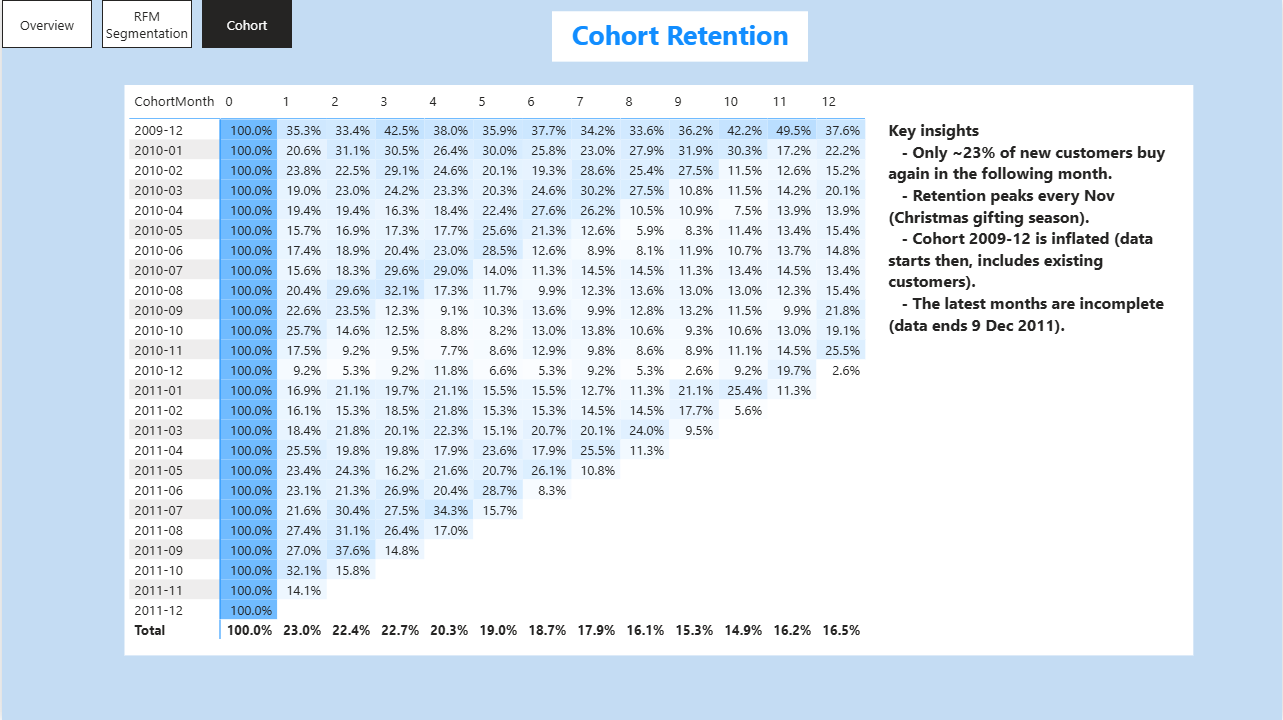

What the dashboard file says about the page in this screenshot:
{"tool":"powerbi","page":{"name":"Cohort","canvas":[1280,720],"ordinal":2},"visuals":[{"type":"pivotTable","fields":{"Rows":["Dim_Customer.CohortMonth"],"Columns":["Fact_Sales.CohortIndex"],"Values":["_Measures.Retention %"]},"box":[122.5,85,1068.8,570],"z":0},{"type":"pageNavigator","box":[0,0,290,48.8],"z":1},{"type":"textbox","box":[550,11.2,256.2,50],"z":2},{"type":"textbox","box":[881.2,113.8,300,300],"z":3}]}

Visuals, with their boxes in screenshot pixels (x1, y1, x2, y2), scaled from the page's 1280x720 canvas onto the 1283x720 screenshot:
pivotTable - Dim_Customer.CohortMonth x Fact_Sales.CohortIndex: [left=123, top=85, right=1194, bottom=655]
pageNavigator: [left=0, top=0, right=291, bottom=49]
textbox: [left=551, top=11, right=808, bottom=61]
textbox: [left=883, top=114, right=1184, bottom=414]
